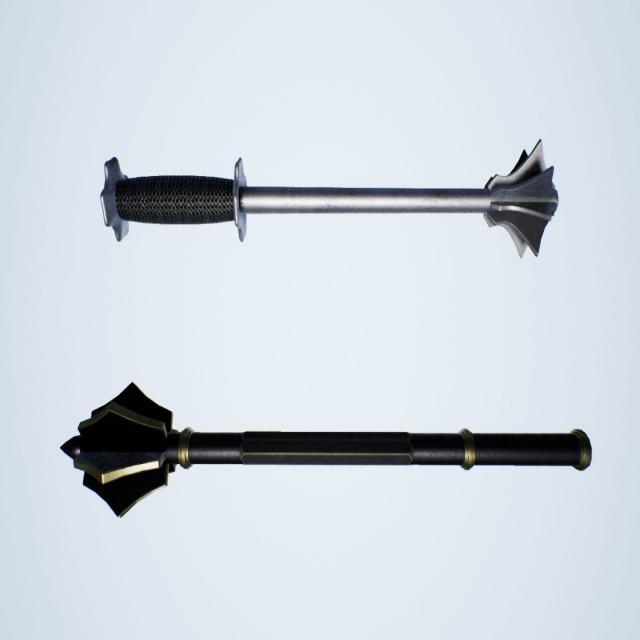mace: (60, 380, 594, 519), (105, 155, 562, 261)
